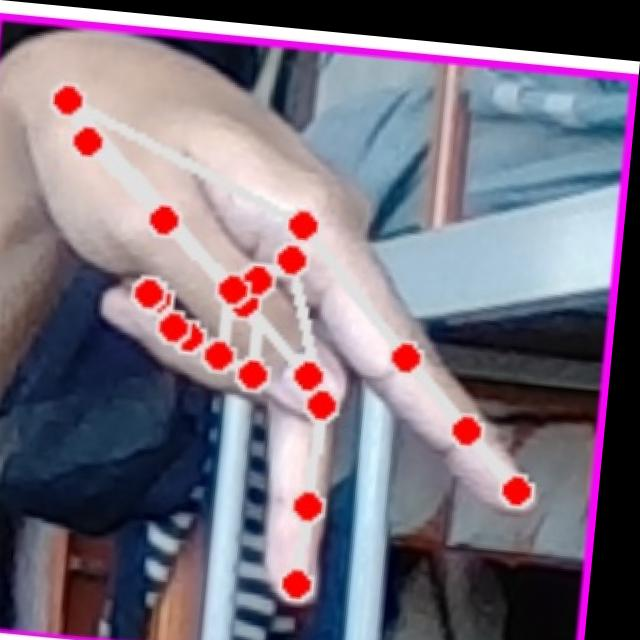P: (0, 21, 599, 634)
